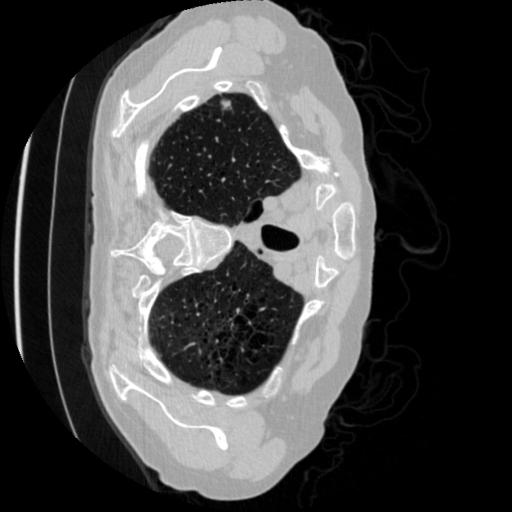nodule: (220, 100, 235, 115)
